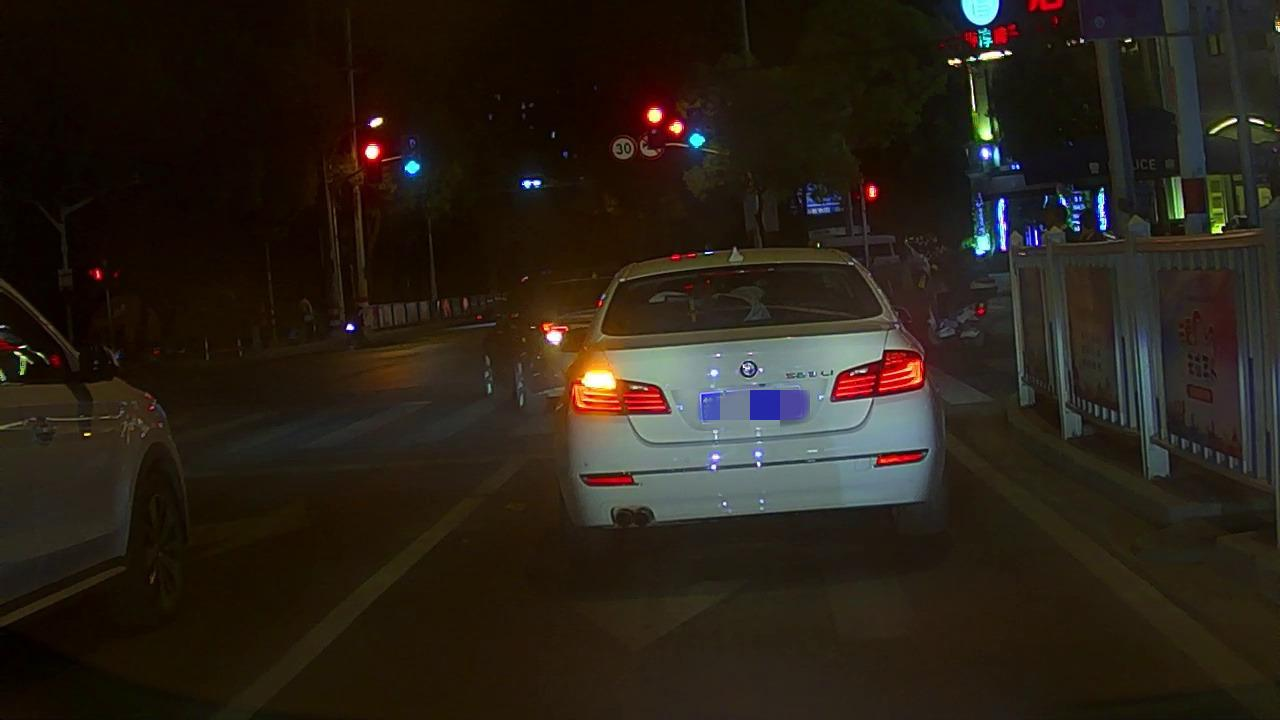traffic_light: (680, 127, 711, 156), (358, 138, 384, 164), (640, 102, 667, 127), (665, 113, 688, 136)
